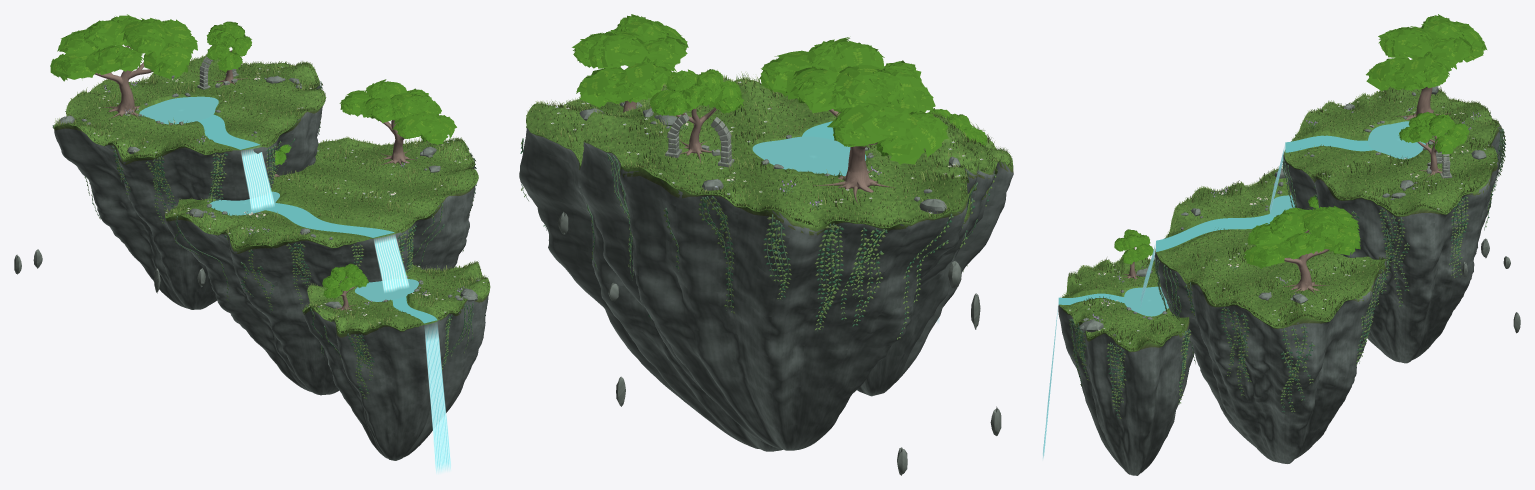
Rendered from thac-tang.glb.
The picture shows the model from 3 angles, left to right: view 1: azimuth 30°, elevation 25°; view 2: azimuth 150°, elevation 25°; view 3: azimuth 270°, elevation 25°; orthographic projection. The views are drawn at different scales.
Parts seen in each view (by area): view 1: Middle grove Cliff, Middle grove Ground, Upper spring Cliff, Upper spring Ground, Lower basin Cliff, Upper spring tree canopy, Lower basin Ground, Middle grove tree canopy, Middle grove low meadow blades, Upper spring low meadow blades, Lower basin fall, Middle grove high meadow blades (+24 smaller); view 2: Upper spring Cliff, Upper spring Ground, Middle grove Cliff, Upper spring tree canopy, Middle grove tree canopy, Lower basin Cliff, Upper spring low meadow blades, Upper spring botanical vine leaves, Middle grove Ground, Upper spring tree canopy.001, Upper spring trailing vine stems, Upper spring stillwater (+8 smaller); view 3: Middle grove Cliff, Upper spring Cliff, Middle grove Ground, Upper spring Ground, Lower basin Cliff, Upper spring tree canopy, Lower basin Ground, Middle grove tree canopy, Upper spring low meadow blades, Middle grove low meadow blades, Middle grove botanical vine leaves, Upper spring tree canopy.001 (+19 smaller).
Part boxes in pixels (left/top/right/bottom): Middle grove Cliff: left=165, top=166, right=475, bottom=395; Middle grove Ground: left=165, top=138, right=478, bottom=249; Upper spring Cliff: left=54, top=81, right=322, bottom=309; Upper spring Ground: left=54, top=56, right=325, bottom=159; Lower basin Cliff: left=303, top=294, right=488, bottom=460; Upper spring tree canopy: left=50, top=14, right=197, bottom=81; Lower basin Ground: left=302, top=262, right=490, bottom=333; Middle grove tree canopy: left=339, top=79, right=456, bottom=144; Middle grove low meadow blades: left=165, top=138, right=477, bottom=248; Upper spring low meadow blades: left=57, top=56, right=325, bottom=158; Lower basin fall: left=425, top=324, right=450, bottom=473; Middle grove high meadow blades: left=165, top=137, right=465, bottom=244; Upper spring Cliff: left=578, top=142, right=978, bottom=450; Upper spring Ground: left=582, top=78, right=978, bottom=228; Middle grove Cliff: left=519, top=126, right=994, bottom=451; Upper spring tree canopy: left=758, top=37, right=948, bottom=164; Middle grove tree canopy: left=572, top=14, right=688, bottom=107; Lower basin Cliff: left=857, top=162, right=1013, bottom=396; Upper spring low meadow blades: left=582, top=78, right=977, bottom=227; Upper spring botanical vine leaves: left=608, top=157, right=976, bottom=339; Middle grove Ground: left=526, top=79, right=994, bottom=218; Upper spring tree canopy.001: left=650, top=69, right=744, bottom=115; Upper spring trailing vine stems: left=607, top=153, right=977, bottom=337; Upper spring stillwater: left=752, top=136, right=866, bottom=176; Middle grove Cliff: left=1154, top=249, right=1386, bottom=463; Upper spring Cliff: left=1283, top=124, right=1503, bottom=363; Middle grove Ground: left=1155, top=168, right=1385, bottom=327; Upper spring Ground: left=1284, top=86, right=1498, bottom=215; Lower basin Cliff: left=1058, top=305, right=1194, bottom=475; Upper spring tree canopy: left=1366, top=14, right=1486, bottom=91; Lower basin Ground: left=1059, top=258, right=1188, bottom=351; Middle grove tree canopy: left=1243, top=206, right=1360, bottom=268; Upper spring low meadow blades: left=1286, top=89, right=1497, bottom=214; Middle grove low meadow blades: left=1160, top=175, right=1384, bottom=327; Middle grove botanical vine leaves: left=1154, top=259, right=1388, bottom=411; Upper spring tree canopy.001: left=1398, top=112, right=1469, bottom=154.
Bounding box in the file's own units: 54.7 × 49.19 × 55.55.
10 materials, 6 textured.
